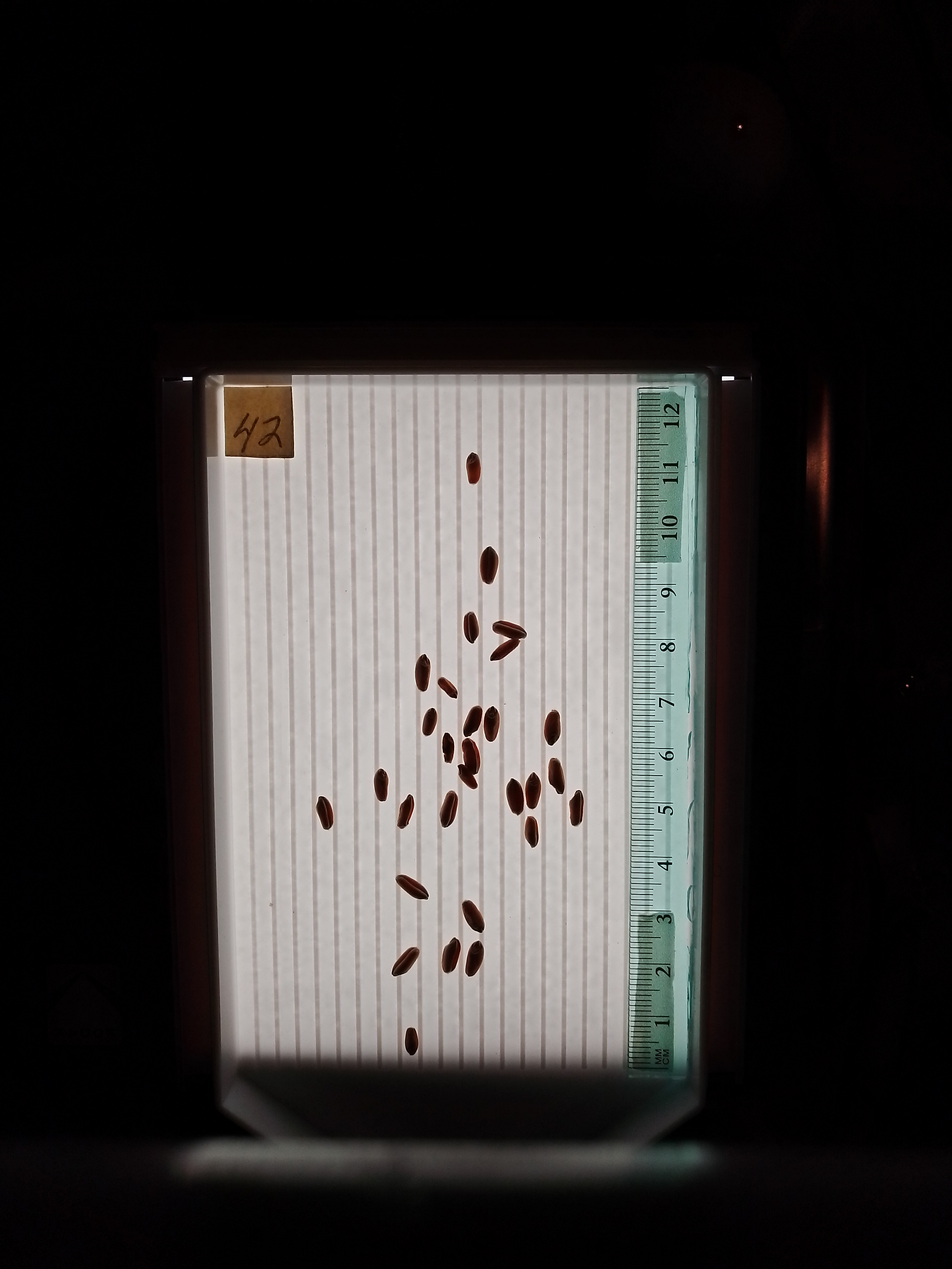seed mask: (396, 874, 428, 900), (392, 947, 419, 976), (480, 547, 499, 584), (493, 621, 526, 642), (462, 901, 484, 931), (442, 939, 461, 973), (462, 739, 480, 774), (440, 792, 458, 827), (548, 758, 565, 794), (316, 796, 334, 830), (466, 942, 484, 976), (506, 780, 523, 814), (415, 655, 431, 691), (463, 706, 482, 736), (544, 711, 561, 744), (397, 795, 414, 828), (526, 774, 542, 809), (491, 640, 518, 660), (484, 707, 499, 741), (569, 792, 584, 826), (463, 614, 479, 643), (374, 769, 388, 802), (458, 765, 477, 789), (466, 454, 481, 484), (422, 709, 438, 736), (404, 1028, 419, 1056), (525, 817, 538, 847), (439, 677, 457, 698), (442, 734, 454, 763)
